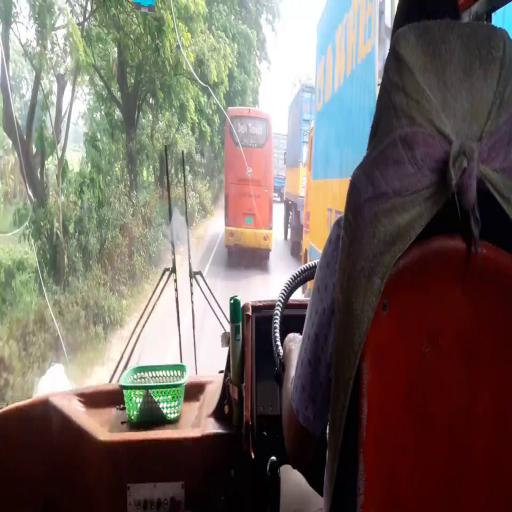bus: (225, 107, 270, 258)
pickup: (301, 4, 379, 287), (284, 88, 309, 254), (274, 132, 288, 200)
